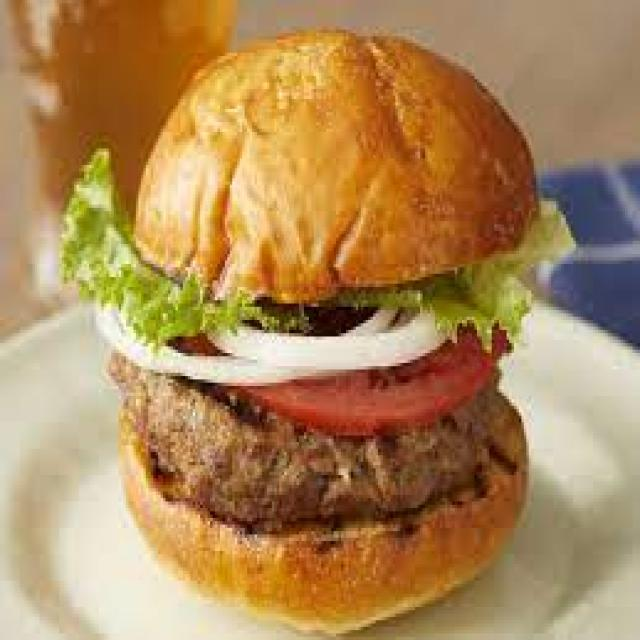Wet Waste: (60, 54, 572, 634)
